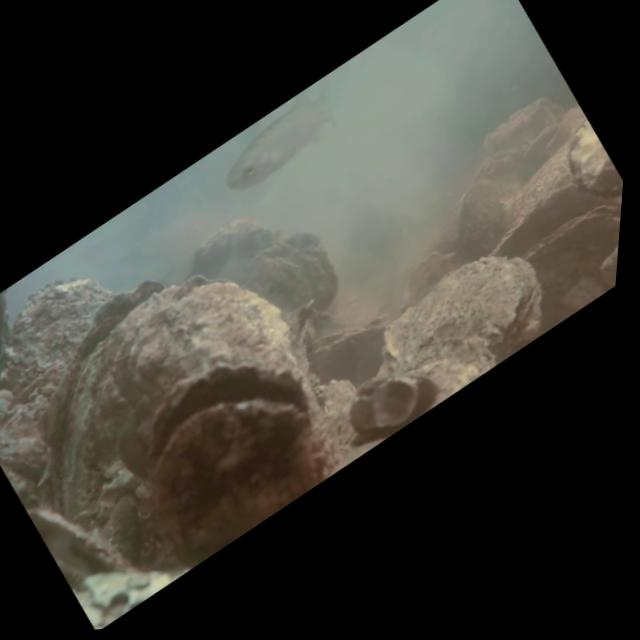Oyster-Closed: (380, 252, 545, 378), (26, 506, 143, 570), (488, 183, 575, 254), (519, 203, 621, 262)
Oyster-Indeterminate: (50, 275, 196, 522), (110, 279, 298, 418), (191, 219, 343, 312), (562, 119, 622, 201), (449, 177, 510, 257)
Oyster-Open: (139, 356, 314, 521), (520, 121, 568, 185)
